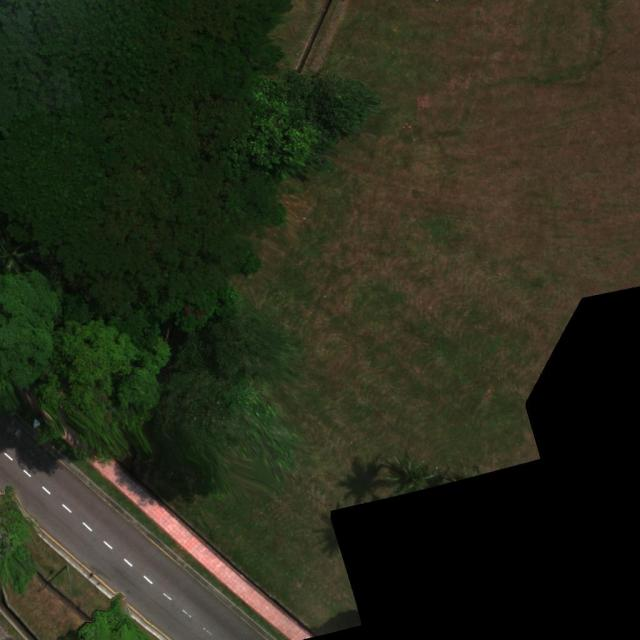Tree: (0, 0, 296, 347), (34, 318, 174, 462), (243, 64, 382, 172), (0, 266, 64, 391), (0, 223, 38, 276)
